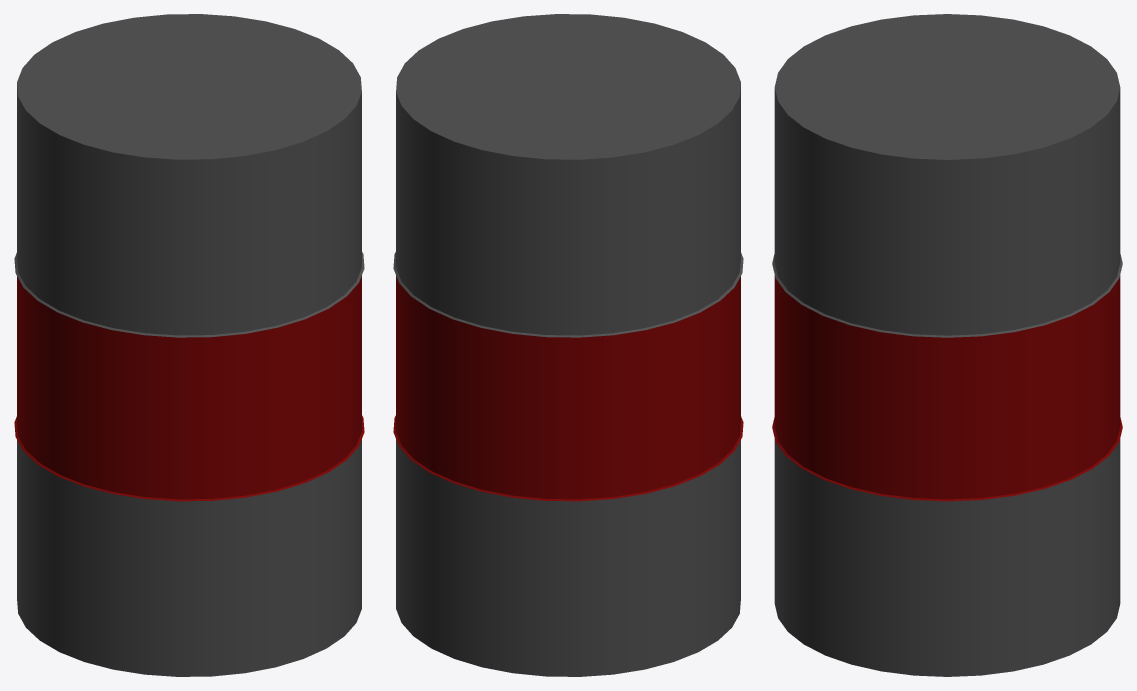
Rendered from Barrel.fbx.
3 views of the same model, side by side, from view 1: azimuth 30°, elevation 25°; view 2: azimuth 150°, elevation 25°; view 3: azimuth 270°, elevation 25° (orthographic).
Parts seen in each view (by area): view 1: Cylinder; view 2: Cylinder; view 3: Cylinder.
Part boxes in pixels (x1,y1,x2,y2): Cylinder: (14,14,364,676); Cylinder: (393,14,743,676); Cylinder: (772,14,1122,676).
Size of the model in its own units: 203 by 330 by 203.
